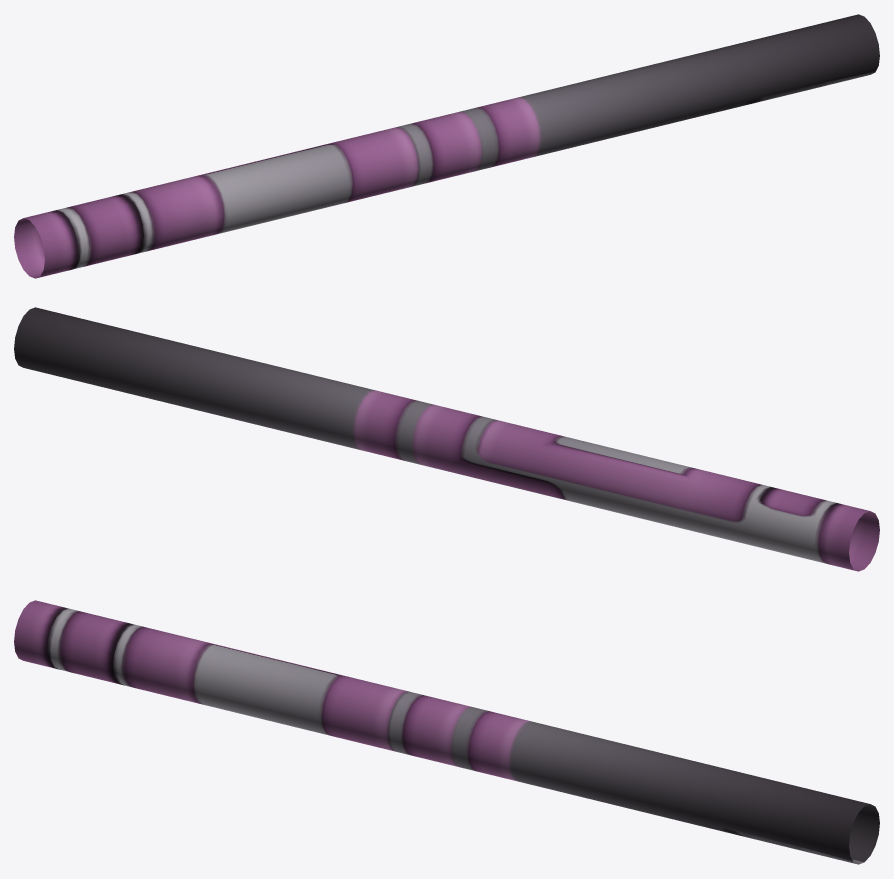
Rendered from SM_EDSCable.fbx.
3 views of the same model, one above another, from view 1: azimuth 30°, elevation 25°; view 2: azimuth 150°, elevation 25°; view 3: azimuth 330°, elevation 25° (orthographic).
Visible parts, largest first — view 1: Cable; view 2: Cable; view 3: Cable.
Boxes of the visible parts, box(x1,y1,x2,y2) form: Cable: box(14, 14, 879, 278); Cable: box(14, 307, 879, 571); Cable: box(14, 600, 879, 864).
Size of the model in its own units: 50 by 3.21 by 3.21.
